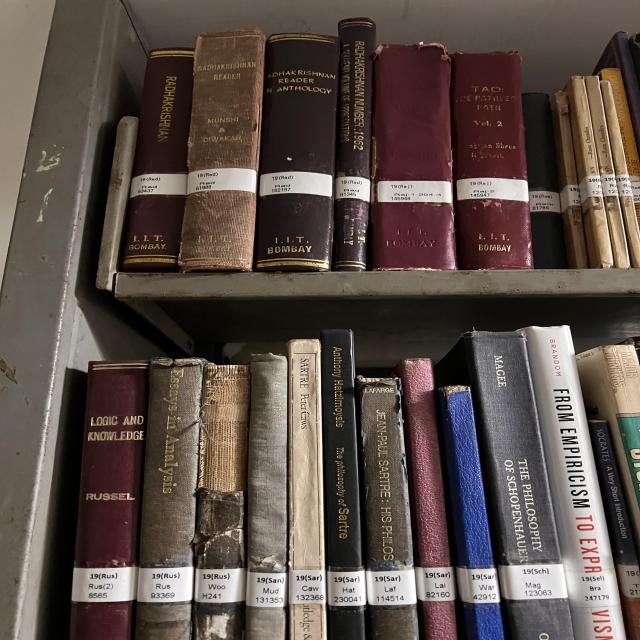Book: (442, 331, 573, 640), (525, 326, 625, 640), (70, 360, 148, 640), (178, 29, 265, 271), (135, 359, 207, 640), (255, 34, 338, 271), (372, 44, 457, 270), (450, 51, 533, 270), (438, 385, 505, 640), (357, 378, 418, 640), (122, 48, 193, 271), (193, 364, 250, 640), (322, 329, 367, 640), (575, 345, 640, 542), (245, 354, 288, 640), (395, 359, 452, 568), (288, 339, 327, 640), (588, 420, 640, 640), (333, 18, 375, 271), (565, 76, 613, 269), (585, 76, 630, 269), (522, 92, 567, 269), (600, 80, 640, 268), (550, 91, 588, 269), (598, 69, 640, 222), (418, 600, 457, 640)
Label: (563, 562, 620, 608), (498, 564, 567, 600), (72, 566, 138, 602), (137, 566, 193, 602), (260, 171, 333, 196), (187, 168, 257, 194), (367, 569, 417, 605), (195, 568, 247, 602), (457, 178, 528, 202), (377, 181, 452, 202), (457, 568, 500, 604), (247, 571, 287, 608), (327, 570, 367, 606), (415, 566, 455, 601), (130, 174, 187, 198), (288, 570, 327, 604), (335, 176, 370, 202), (617, 564, 640, 598), (528, 191, 562, 212), (578, 175, 603, 202), (560, 185, 582, 212), (600, 174, 618, 196), (615, 174, 633, 196), (630, 175, 640, 205)
